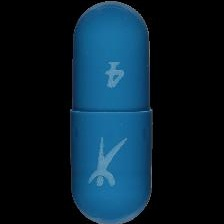54868-4514: (0, 0, 224, 224)
